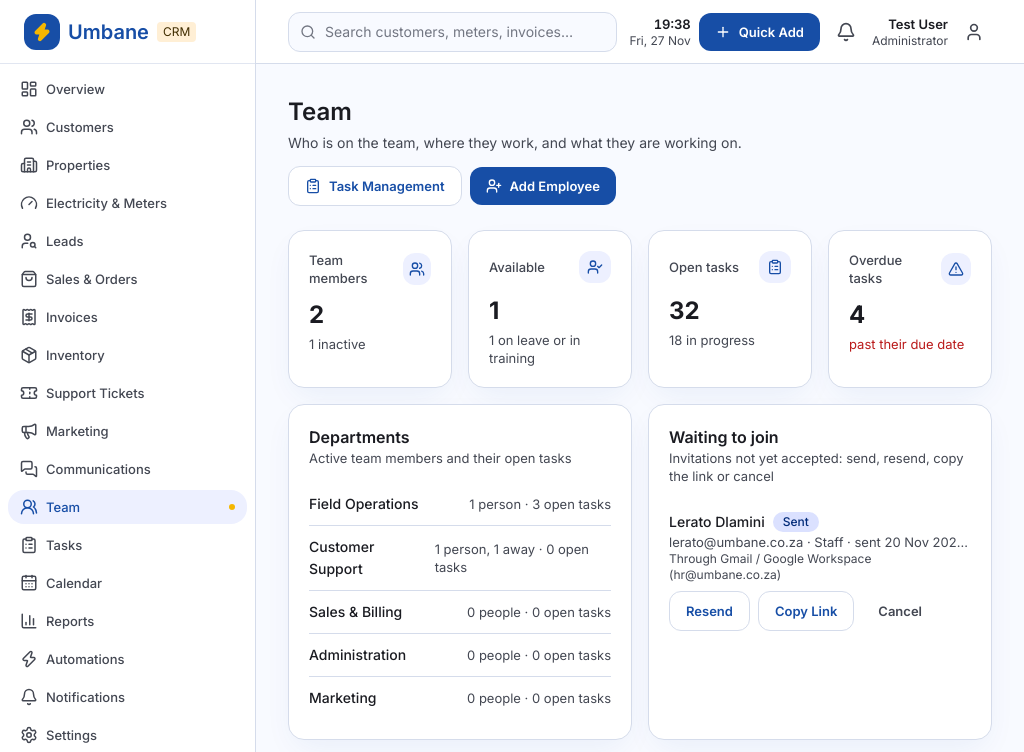
Test: team page › cancels an invitation on the server, which also removes the unused sign-in
Click the button with aria-label "Cancel invitation for lerato@umbane.co.za": [900, 611] box [862,591,938,631]
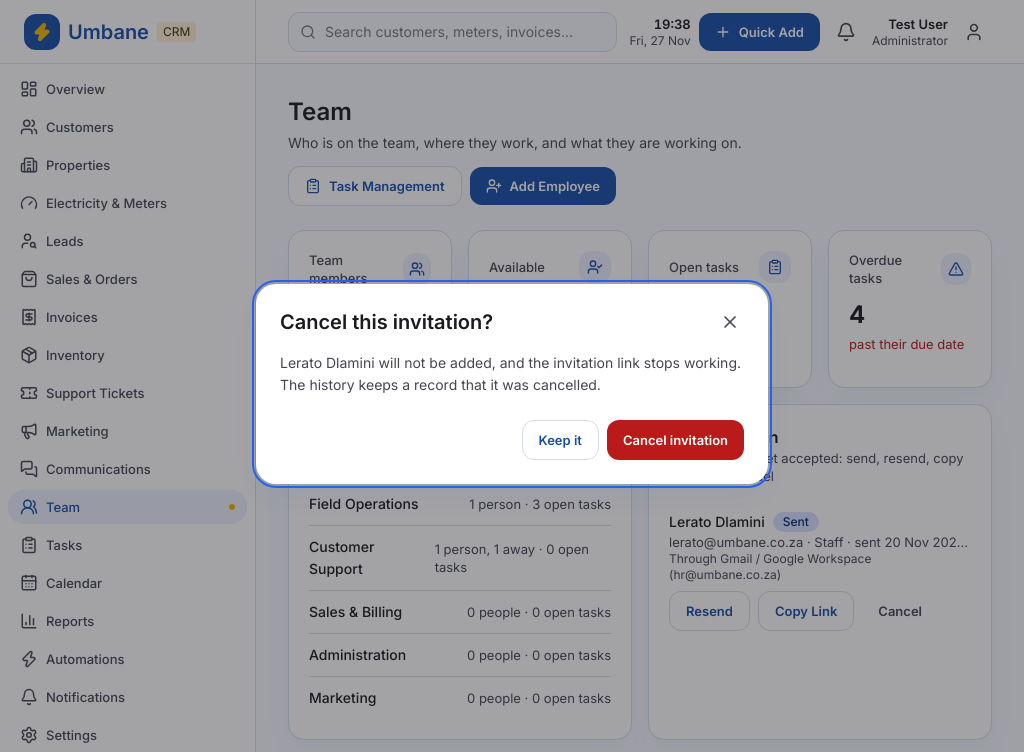
Click the button "Cancel invitation": [675, 440] box [607,420,744,460]
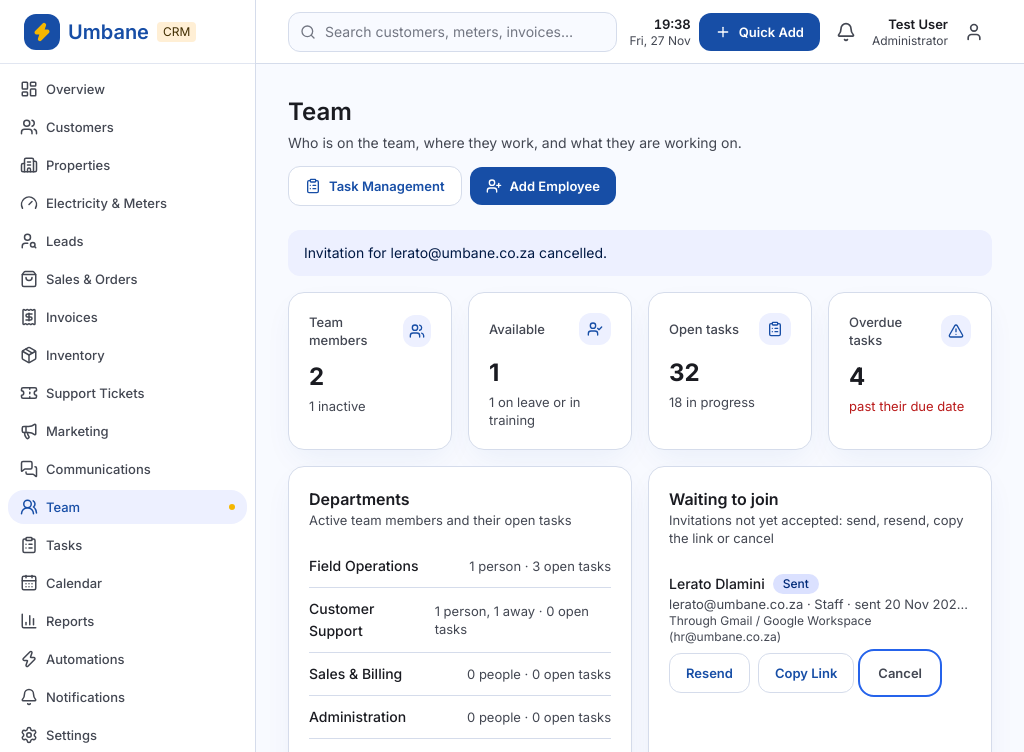
Result: the text "Invitation for lerato@umbane.co.za cancelled." is shown at [288,230,992,276]
